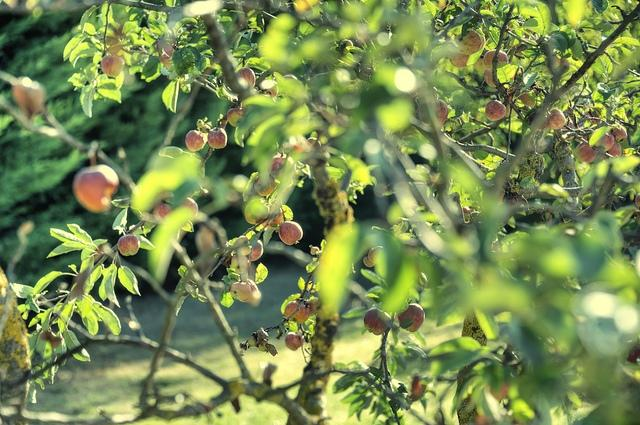apple: (75, 165, 119, 212), (12, 76, 44, 120), (396, 304, 425, 333), (418, 99, 448, 127), (269, 154, 296, 182), (364, 308, 390, 336), (454, 29, 483, 54), (244, 199, 270, 224), (284, 300, 310, 324), (590, 128, 615, 152), (278, 221, 302, 245), (101, 55, 125, 78), (575, 140, 599, 162), (482, 49, 508, 69), (185, 130, 208, 152), (407, 376, 426, 402), (484, 100, 506, 122), (118, 234, 140, 256), (254, 174, 276, 196), (236, 67, 256, 89), (208, 127, 228, 149), (158, 44, 174, 70), (546, 109, 566, 129), (600, 142, 622, 160), (230, 282, 251, 300), (248, 239, 264, 262), (227, 108, 246, 127), (448, 52, 470, 68), (610, 126, 628, 144), (286, 332, 304, 350), (490, 384, 509, 400), (544, 56, 560, 69)
